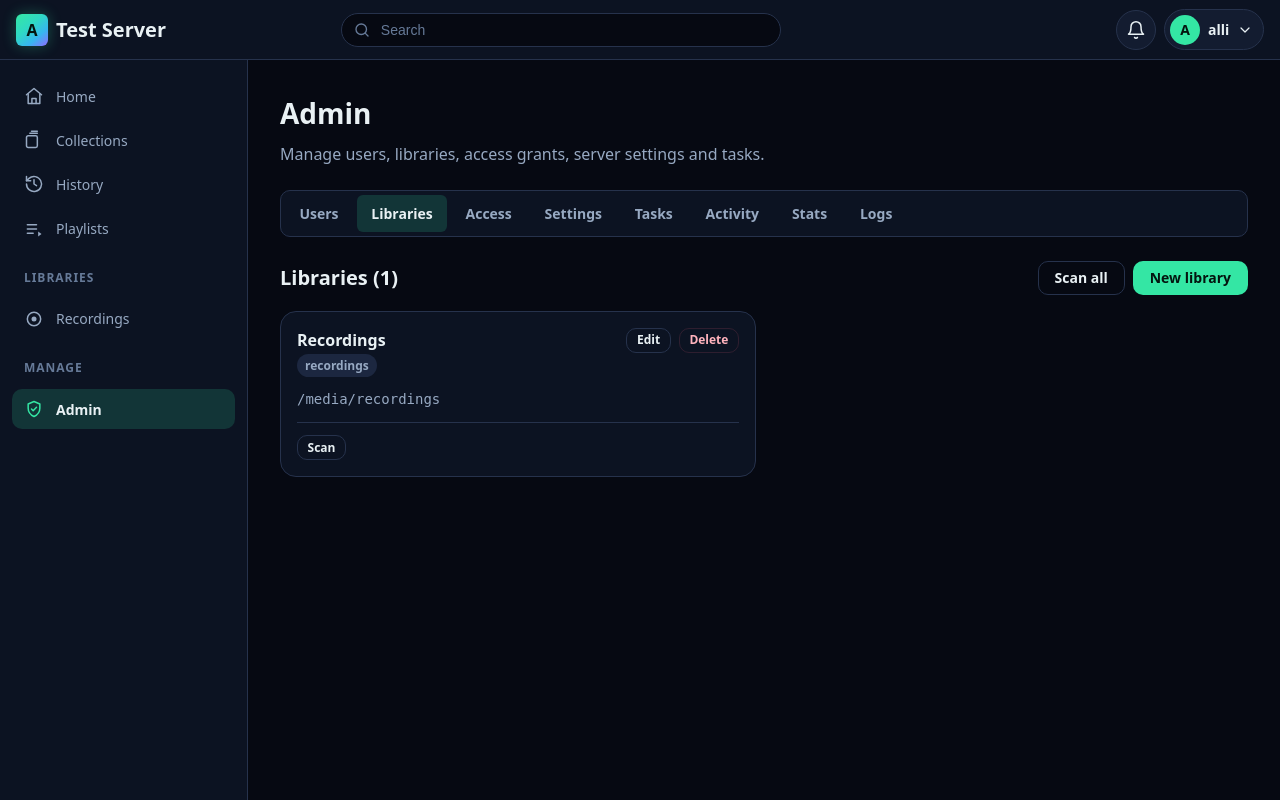
AdminLibrariesPage › deletes a library after confirmation
This screenshot has width=1280, height=800.
Expected: the text "Recordings" below "Libraries (" is shown, [297,329,386,351]
Click the button "Delete" at (709, 340), box [679,328,739,353]
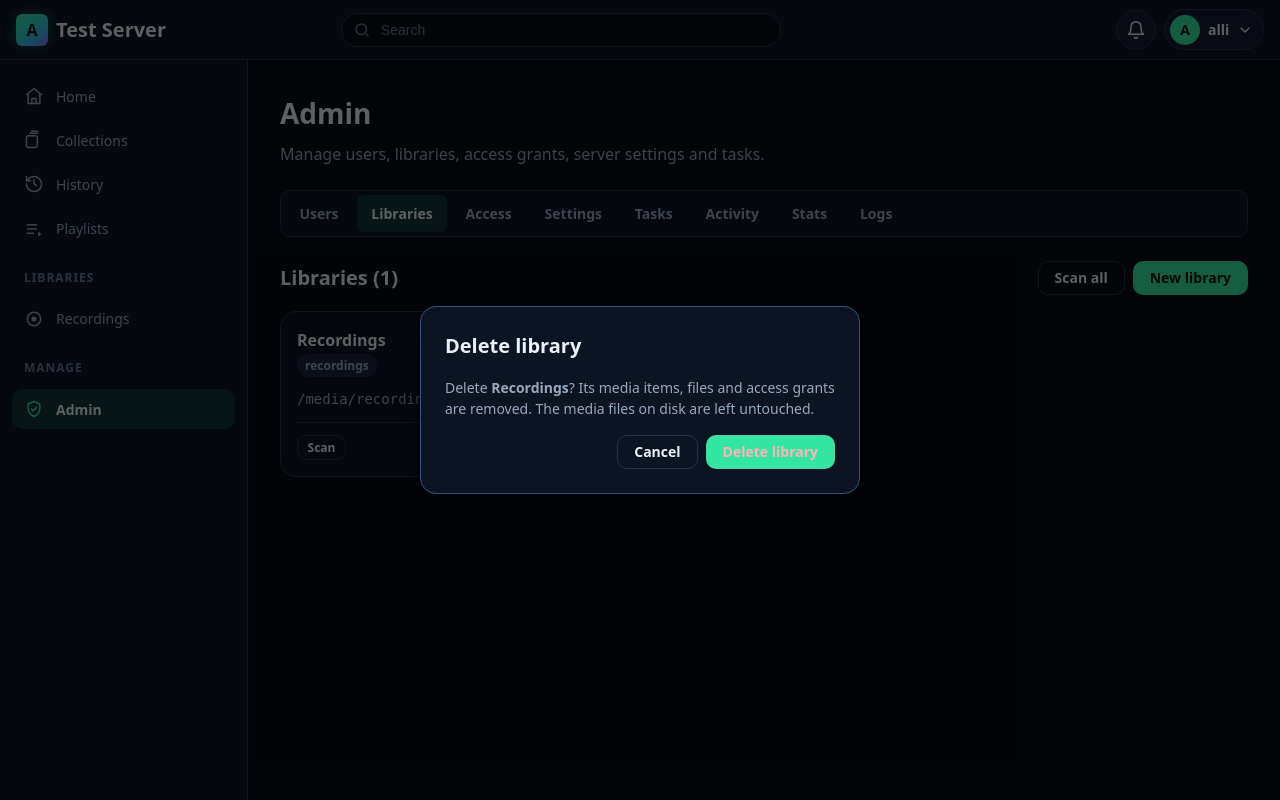
Expected: the heading "Delete library" is shown, [445,332,581,359]
Click the button "Delete library" at (770, 452), box [706,435,835,469]
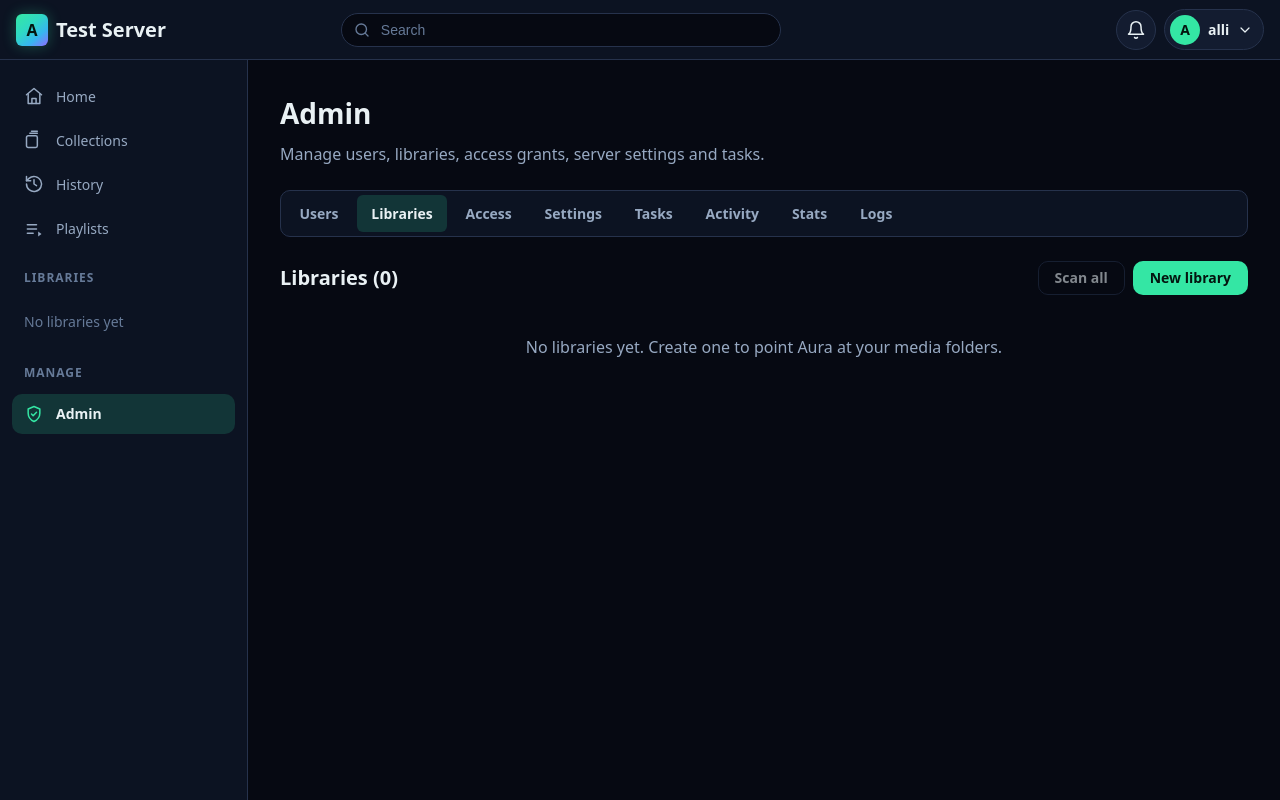
Expected: the link "Recordings" is gone
